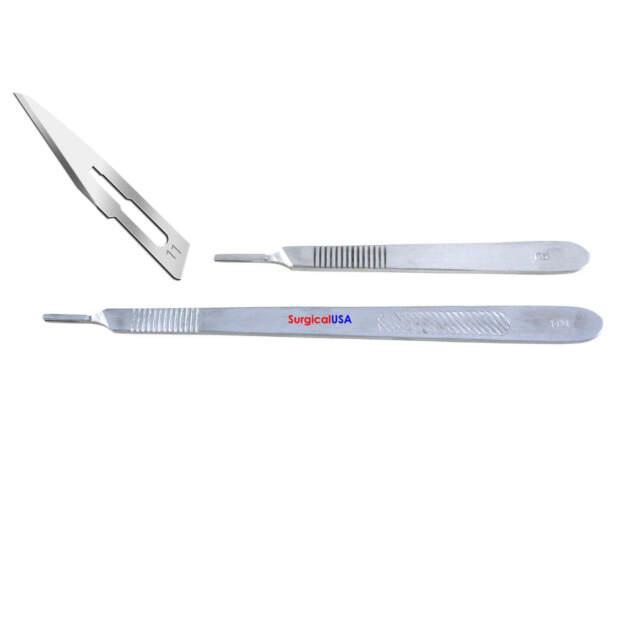Knife handle: (35, 290, 602, 357), (201, 233, 592, 290)
Surgical blade: (1, 77, 191, 279)
